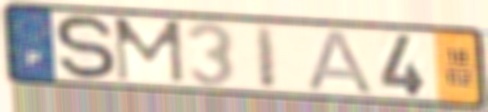3: (185, 18, 240, 92)
4: (377, 31, 430, 99)
A: (304, 27, 378, 97)
I: (252, 23, 280, 91)
M: (111, 16, 188, 86)
S: (53, 13, 120, 83)
